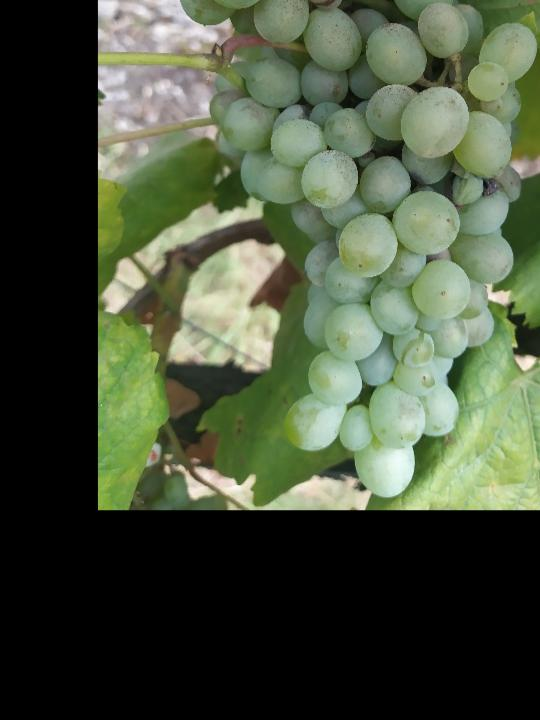grape: (131, 0, 540, 500)
